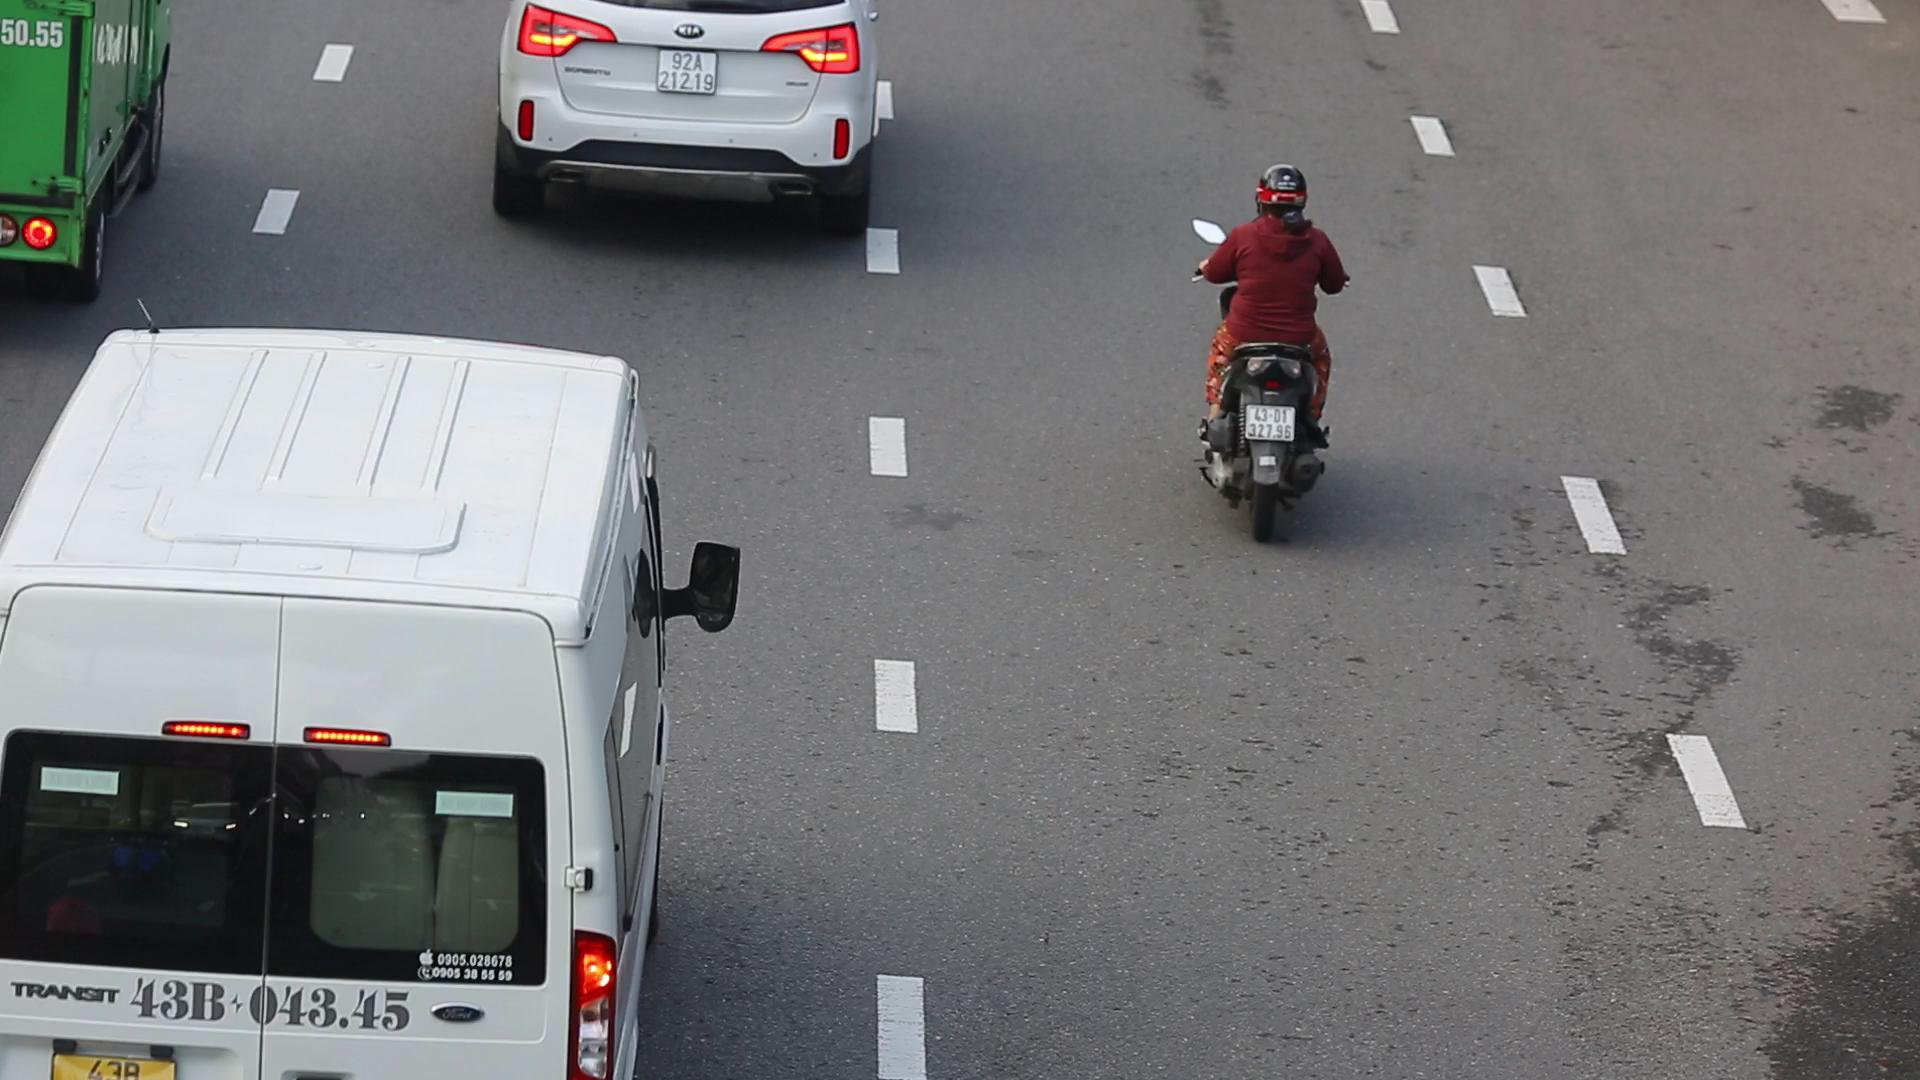motobike: (1195, 152, 1375, 546)
